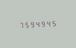five: (23, 20, 28, 28), (53, 19, 58, 26)
four: (47, 19, 52, 27), (35, 20, 40, 27)
nine: (29, 20, 34, 28), (41, 19, 46, 27)
seven: (17, 21, 22, 28)
